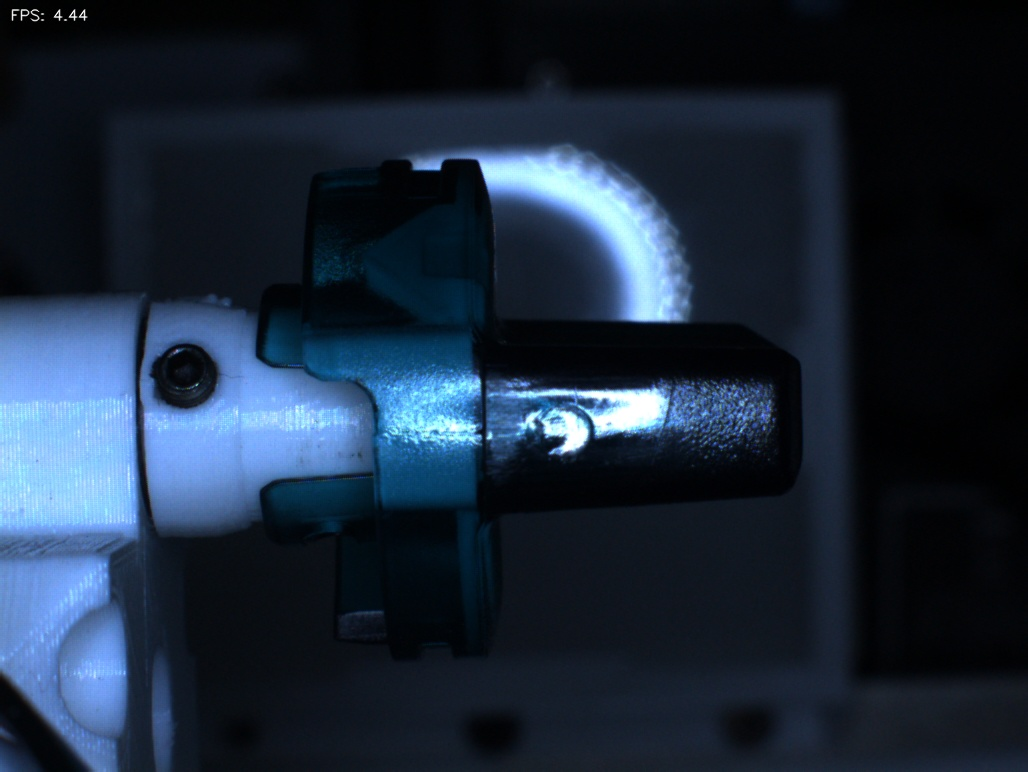DentOk: (335, 206, 416, 319)
